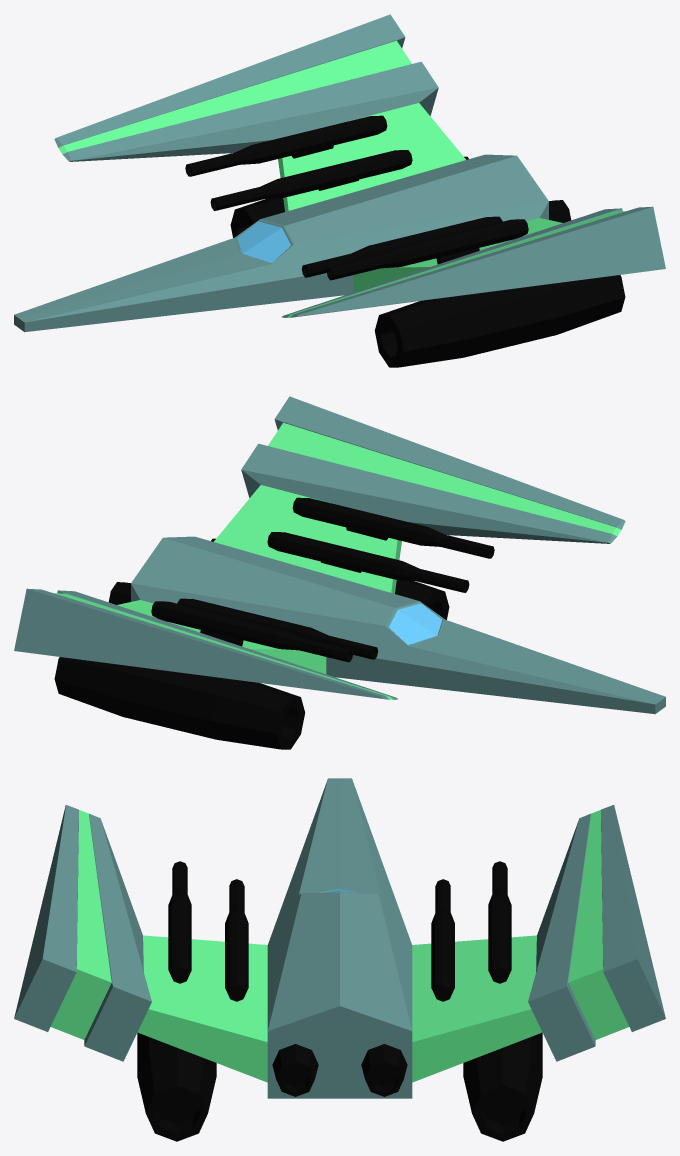
The model's file is fighter5.fbx.
3 renders of one model, top to bottom at view 1: azimuth 30°, elevation 25°; view 2: azimuth 150°, elevation 25°; view 3: azimuth 270°, elevation 25°, orthographic. The views are drawn at different scales.
Parts seen in each view (by area): view 1: Fighter5; view 2: Fighter5; view 3: Fighter5.
Boxes of the visible parts, <box> form: Fighter5: <box>14,14,665,367</box>; Fighter5: <box>14,396,665,749</box>; Fighter5: <box>14,778,665,1141</box>.
Bounding box in the file's own units: 552 × 161 × 526.
